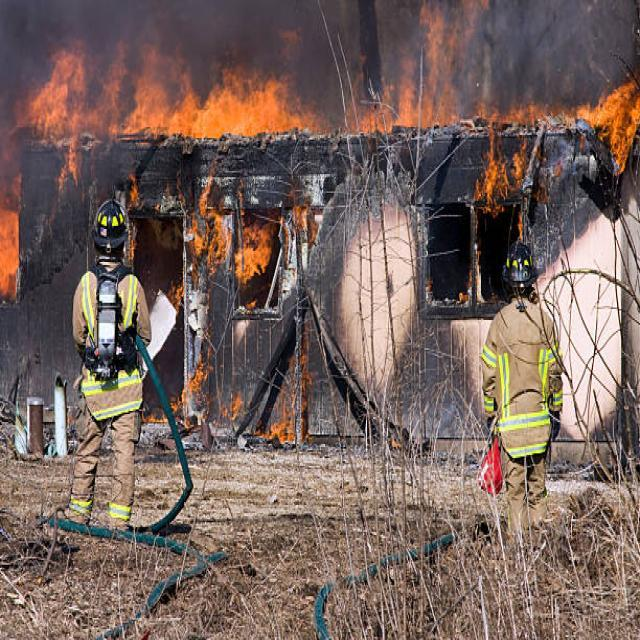Fire: (25, 45, 312, 145), (470, 76, 640, 221), (352, 0, 490, 138), (194, 186, 276, 284), (0, 195, 21, 303)
